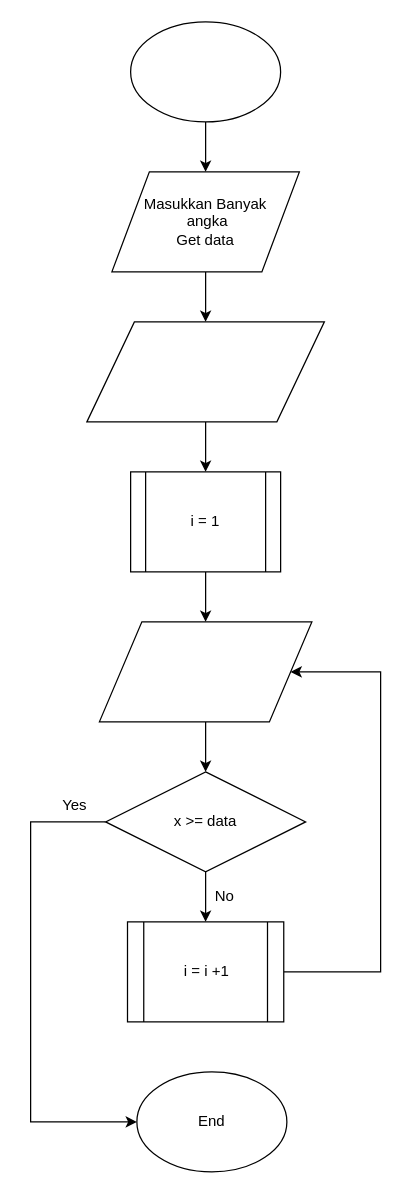
The diagram is 413 pixels wide and 1194 high, and some of its shapes have lost their labels. Each missing label, with the centre of its shape:
"Masukkan Angka Ke +i Get angka[i]" belongs at [205,671].
"Masukkan Urutan Yang Ingin Dicari Get x" belongs at [205,371].
"Start" belongs at [205,71].
